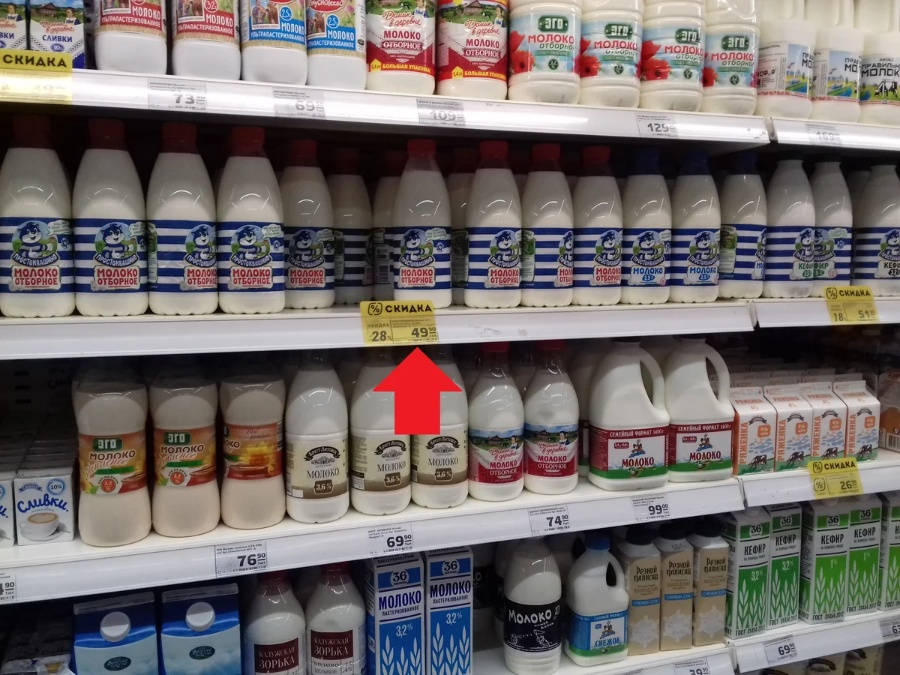milk: (68, 348, 170, 559), (69, 117, 161, 325), (133, 115, 224, 325), (200, 121, 292, 326), (1, 113, 89, 324), (145, 353, 230, 548), (212, 350, 296, 537), (279, 347, 360, 528), (388, 136, 459, 318), (592, 337, 673, 495), (461, 139, 530, 322), (663, 334, 747, 482), (613, 146, 684, 312), (515, 139, 581, 316), (662, 142, 727, 312), (474, 342, 539, 508), (567, 143, 629, 312), (524, 342, 588, 505), (763, 149, 820, 306)
